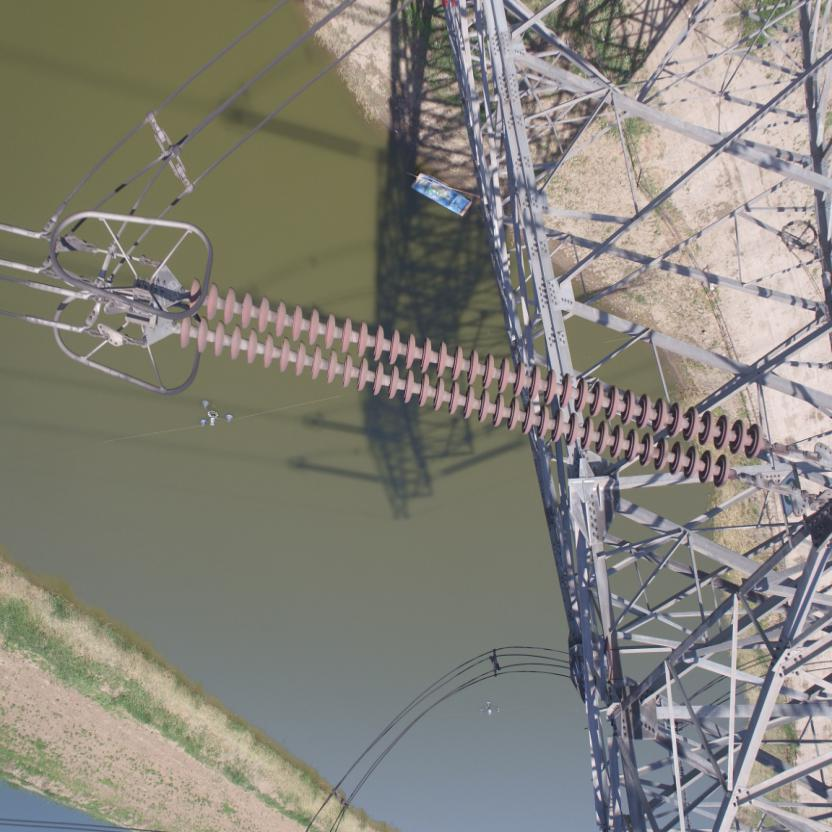insulator: (168, 276, 788, 492)
